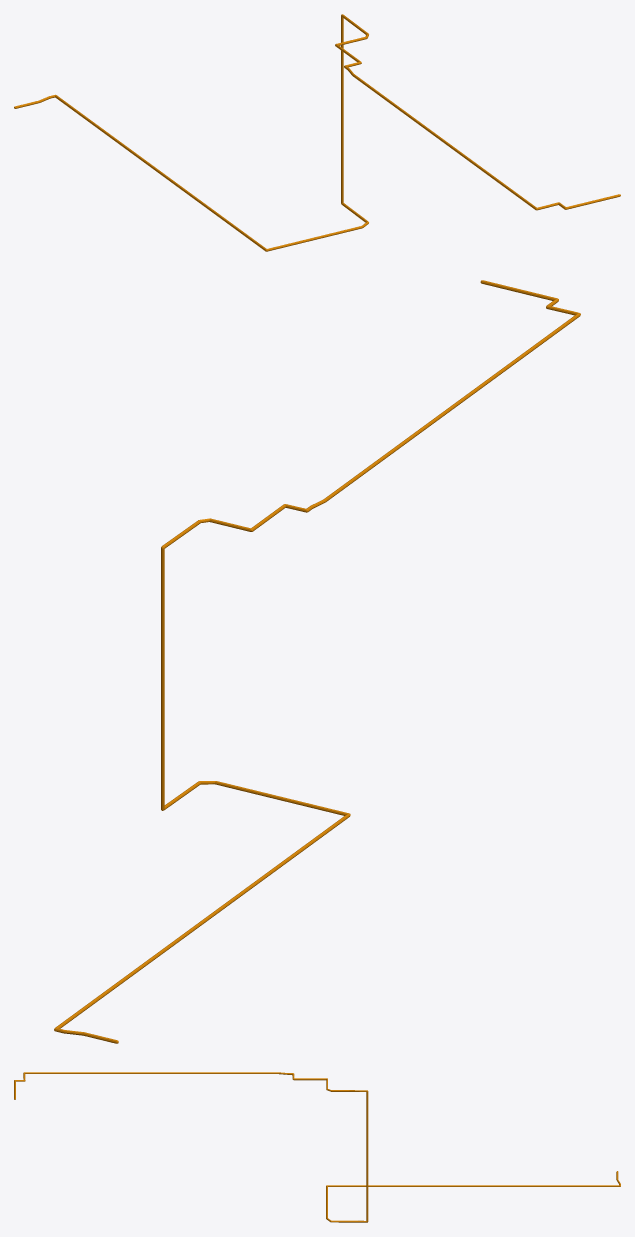
3 renders of one model, top to bottom at view 1: azimuth 30°, elevation 25°; view 2: azimuth 150°, elevation 25°; view 3: azimuth 270°, elevation 25°, orthographic. The views are drawn at different scales.
Bounding box in the file's own units: 1444 × 1520 × 6318.
